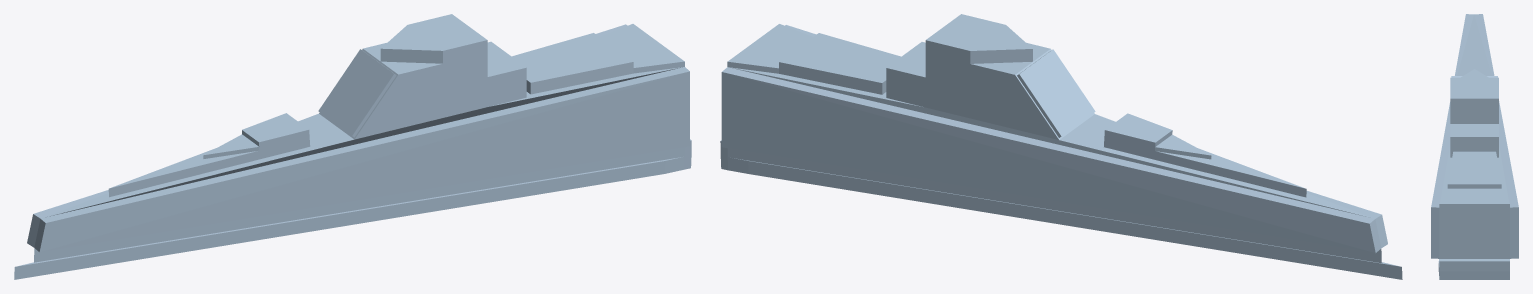
File: Zumwalt.fbx
3 views of the same model, side by side, from view 1: azimuth 30°, elevation 25°; view 2: azimuth 150°, elevation 25°; view 3: azimuth 270°, elevation 25° (orthographic). The views are drawn at different scales.
Parts seen in each view (by area): view 1: Ship; view 2: Ship; view 3: Ship.
Part boxes in pixels (x1=…): Ship: x1=14, y1=14, x2=691, y2=279; Ship: x1=720, y1=14, x2=1402, y2=279; Ship: x1=1431, y1=14, x2=1518, y2=279.
Bounding box in the file's own units: 36417 × 9065 × 6206.
